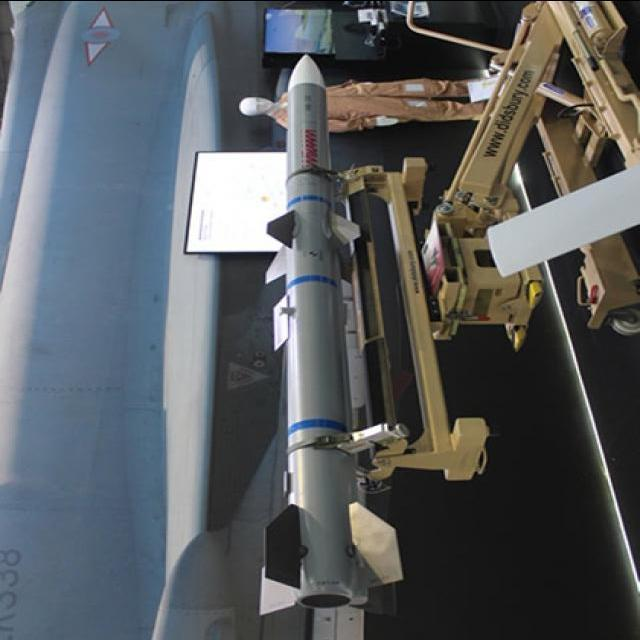missile: (274, 54, 378, 640)
